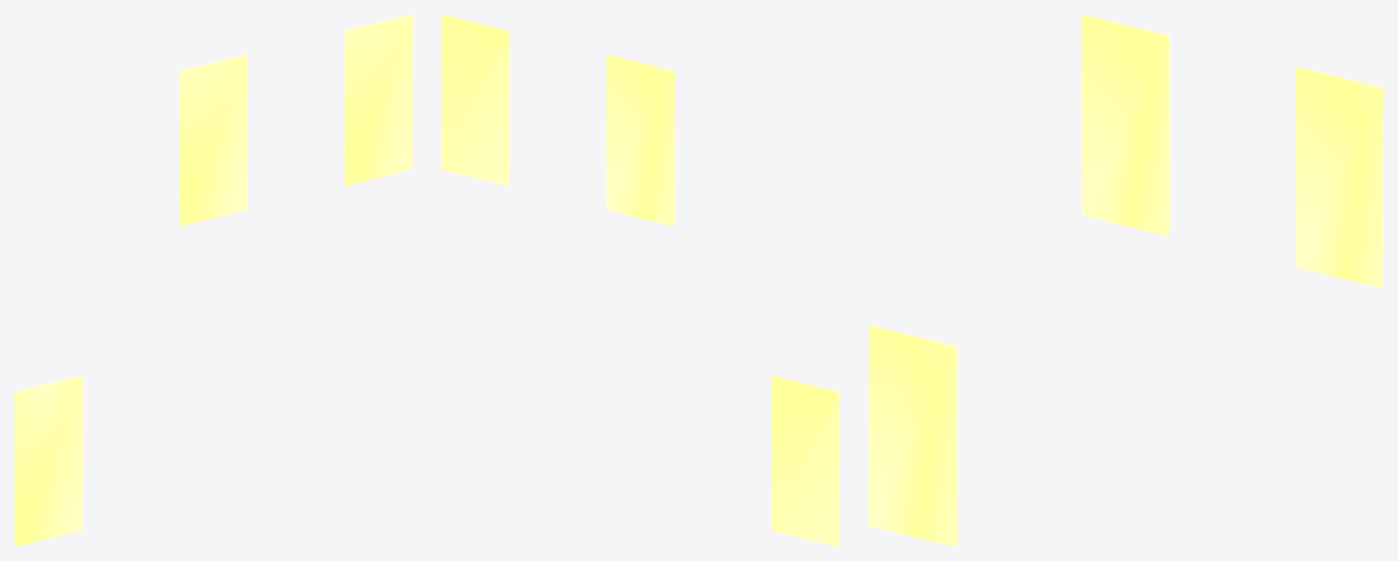
The model's file is Neon_Edificio_ViejoLuces.fbx.
The picture shows the model from 3 angles, left to right: view 1: azimuth 30°, elevation 25°; view 2: azimuth 150°, elevation 25°; view 3: azimuth 330°, elevation 25°; orthographic projection. The views are drawn at different scales.
Visible parts, largest first — view 1: Edificio_ViejoLuces; view 2: Edificio_ViejoLuces; view 3: Edificio_ViejoLuces.
Boxes of the visible parts, <box> form: Edificio_ViejoLuces: <box>14,14,412,546</box>; Edificio_ViejoLuces: <box>441,14,839,546</box>; Edificio_ViejoLuces: <box>868,14,1383,546</box>.
Size of the model in its own units: 19.31 by 20.2 by 0.1.
